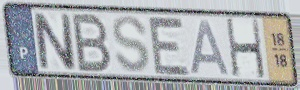A: (189, 18, 232, 77)
B: (71, 12, 114, 74)
E: (145, 13, 192, 78)
H: (224, 17, 268, 81)
N: (30, 10, 79, 73)
S: (111, 14, 152, 75)
